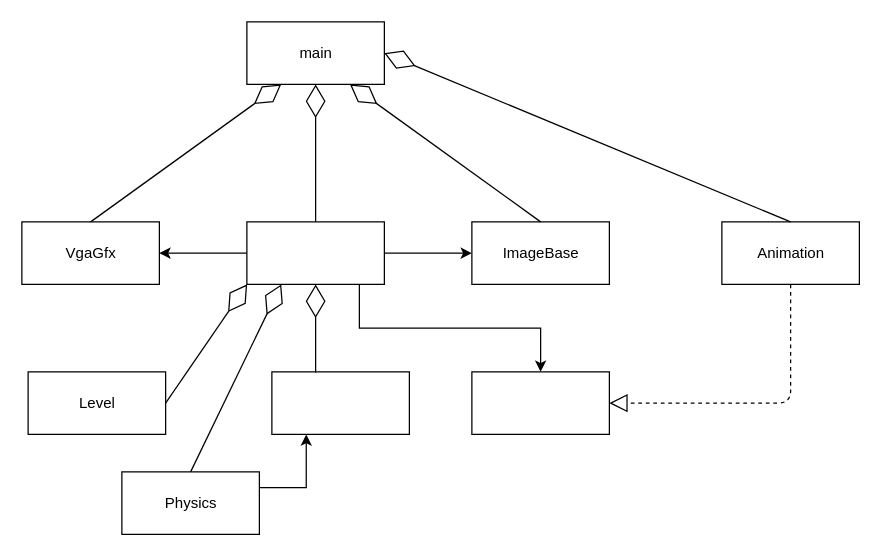
This 881x556 diagram has some shape labels left out. The centre of each missing label's shape, as x and y in pixels:
"Actor" belongs at pixel 340 402.
"Game" belongs at pixel 315 252.
"«interface» Drawable" belongs at pixel 540 402.
